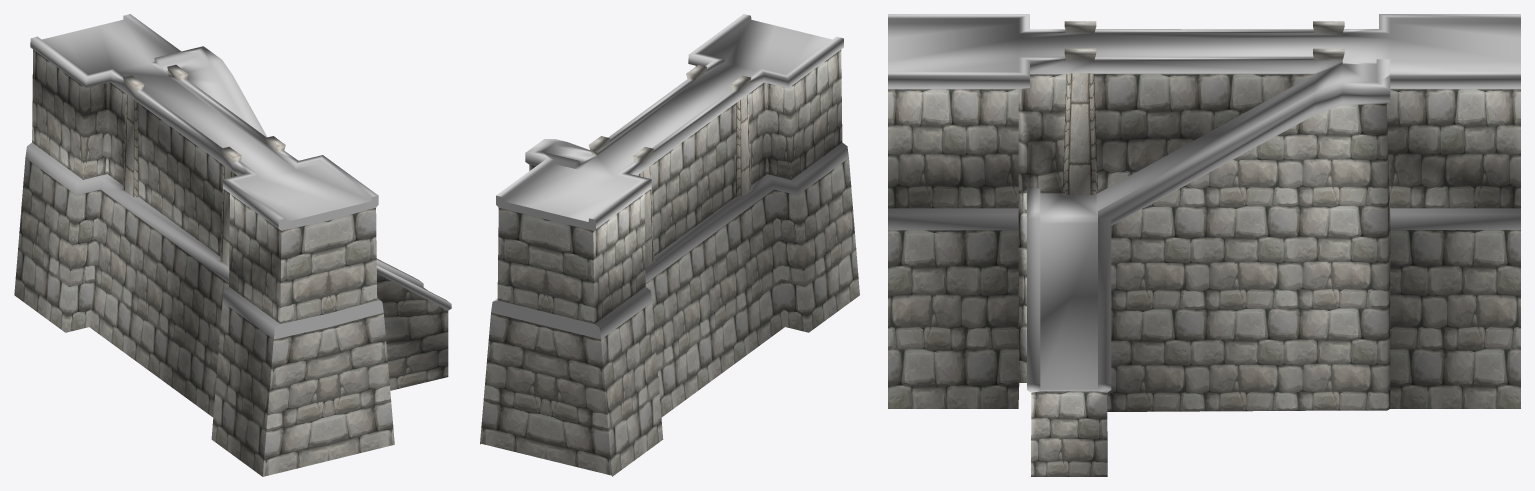
The model's file is wallpiecestairs01.obj.
3 views of the same model, side by side, from view 1: azimuth 30°, elevation 25°; view 2: azimuth 150°, elevation 25°; view 3: azimuth 270°, elevation 25° (orthographic). The views are drawn at different scales.
Parts seen in each view (by area): view 1: WallPieceStairs01; view 2: WallPieceStairs01; view 3: WallPieceStairs01.
Part boxes in pixels (<box>): WallPieceStairs01: <box>14,14,451,476</box>; WallPieceStairs01: <box>480,14,859,476</box>; WallPieceStairs01: <box>888,14,1520,476</box>.
Bounding box in the file's own units: 27.43 × 27.85 × 48.4.
